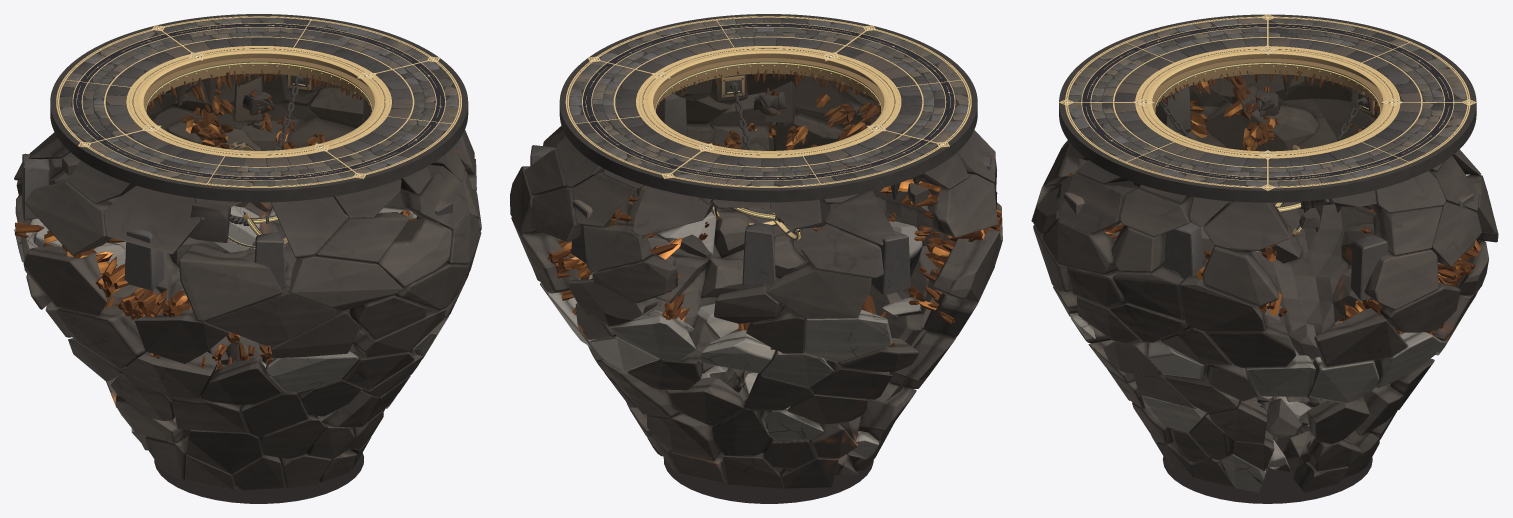
File: EmberHeart.gltf
The picture shows the model from 3 angles, left to right: view 1: azimuth 30°, elevation 25°; view 2: azimuth 150°, elevation 25°; view 3: azimuth 270°, elevation 25°; orthographic projection.
Visible parts, largest first — view 1: Cavern, Slabs, Glass, Brass, Bed, Geode, Inlay, Collar, Anchors, Monolith7, Monolith6, Monolith0 (+4 smaller); view 2: Cavern, Slabs, Glass, Brass, Bed, Geode, Inlay, Collar, Monolith1, Monolith0, Anchors, Monolith4 (+4 smaller); view 3: Cavern, Slabs, Glass, Brass, Bed, Inlay, Collar, Geode, Monolith4, Monolith3, Monolith7, Fringe (+2 smaller).
Part boxes in pixels (x1=…): Cavern: x1=14, y1=73, x2=481, y2=503; Slabs: x1=59, y1=17, x2=458, y2=186; Glass: x1=144, y1=54, x2=374, y2=150; Brass: x1=56, y1=16, x2=461, y2=187; Bed: x1=50, y1=14, x2=468, y2=202; Geode: x1=14, y1=75, x2=458, y2=370; Inlay: x1=57, y1=16, x2=460, y2=186; Collar: x1=143, y1=53, x2=374, y2=112; Anchors: x1=188, y1=74, x2=325, y2=242; Monolith7: x1=124, y1=229, x2=164, y2=290; Monolith6: x1=254, y1=232, x2=286, y2=287; Monolith0: x1=22, y1=153, x2=49, y2=220; Cavern: x1=510, y1=73, x2=1002, y2=503; Slabs: x1=569, y1=17, x2=968, y2=186; Glass: x1=653, y1=54, x2=883, y2=150; Brass: x1=565, y1=16, x2=971, y2=187; Bed: x1=559, y1=14, x2=977, y2=202; Geode: x1=547, y1=80, x2=1001, y2=349; Inlay: x1=567, y1=16, x2=970, y2=186; Collar: x1=653, y1=53, x2=884, y2=112; Monolith1: x1=742, y1=223, x2=775, y2=285; Monolith0: x1=871, y1=231, x2=910, y2=295; Anchors: x1=708, y1=74, x2=830, y2=229; Monolith4: x1=656, y1=94, x2=687, y2=136; Cavern: x1=1031, y1=74, x2=1498, y2=503; Slabs: x1=1068, y1=18, x2=1466, y2=186; Glass: x1=1152, y1=54, x2=1382, y2=150; Brass: x1=1059, y1=14, x2=1476, y2=191; Bed: x1=1059, y1=14, x2=1476, y2=202; Inlay: x1=1063, y1=15, x2=1473, y2=188; Collar: x1=1152, y1=54, x2=1383, y2=112; Geode: x1=1067, y1=75, x2=1480, y2=334; Monolith4: x1=1164, y1=222, x2=1202, y2=280; Monolith3: x1=1351, y1=235, x2=1388, y2=300; Monolith7: x1=1155, y1=86, x2=1191, y2=132; Fringe: x1=1155, y1=70, x2=1379, y2=112.
Size of the model in its own units: 19.02 by 15.59 by 17.79.
Materials: 14 (14 with a texture image).
